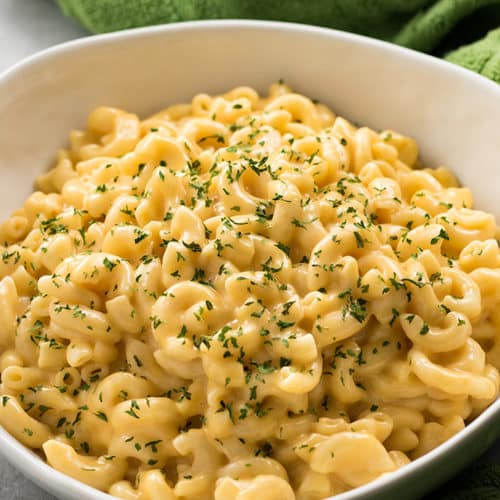macncheese: (15, 48, 500, 458)
